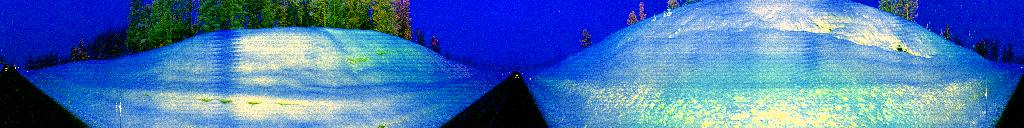pole: (982, 74, 991, 128), (112, 94, 120, 128), (118, 90, 124, 128)
